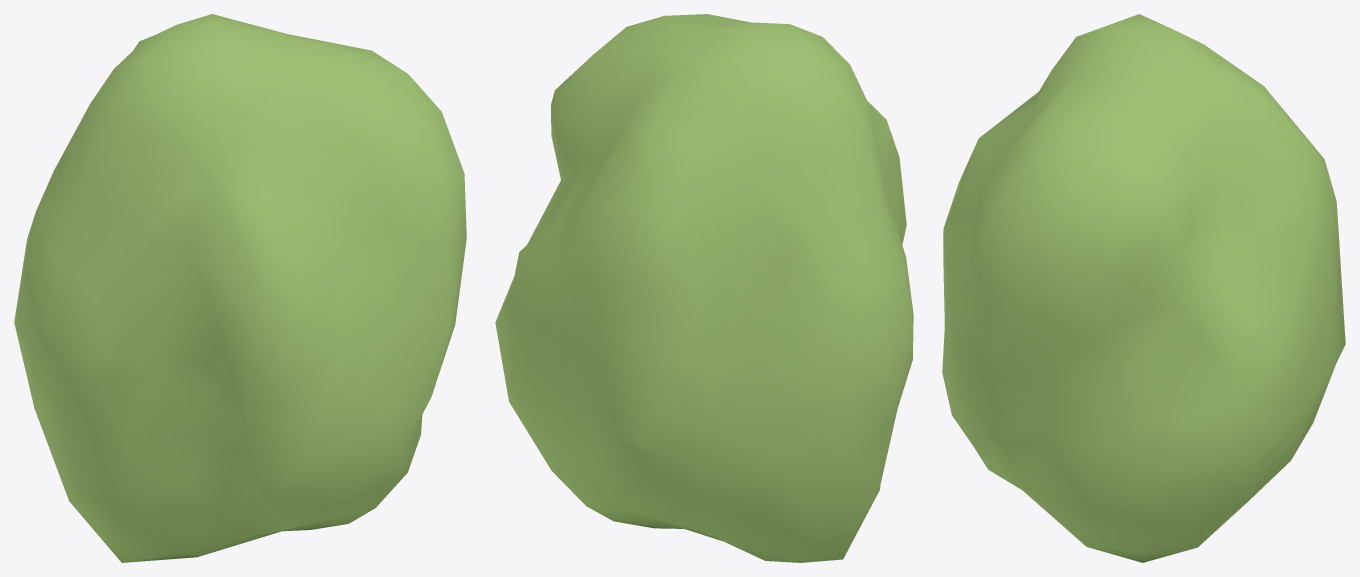
3 views of the same model, side by side, from view 1: azimuth 30°, elevation 25°; view 2: azimuth 150°, elevation 25°; view 3: azimuth 270°, elevation 25° (orthographic). The views are drawn at different scales.
Visible parts, largest first — view 1: Icosphere.007; view 2: Icosphere.007; view 3: Icosphere.007.
Part boxes in pixels (x1,y1,x2,y2): Icosphere.007: [14, 14, 466, 562]; Icosphere.007: [495, 14, 913, 562]; Icosphere.007: [942, 14, 1345, 562].
Bounding box in the file's own units: 4.57 × 6 × 4.58.
1 material, 1 textured.
